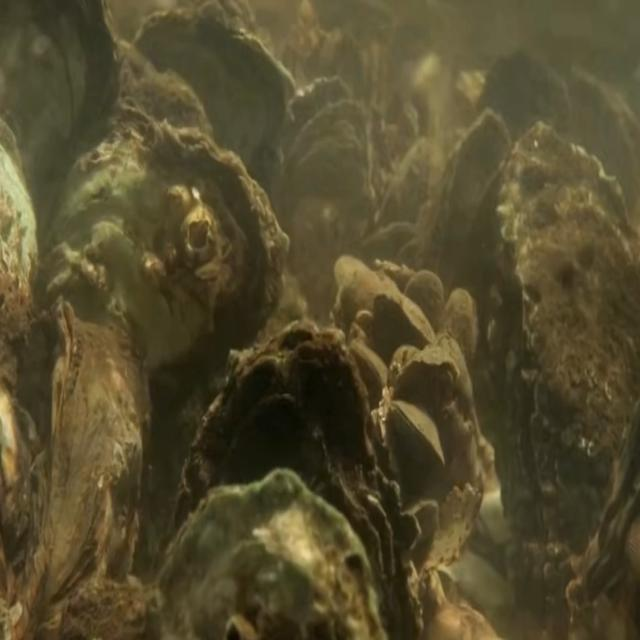Oyster-Closed: (56, 118, 290, 532), (181, 315, 422, 640), (485, 121, 640, 564), (152, 467, 390, 640), (391, 401, 445, 464), (396, 356, 460, 404)
Oyster-Indeterminate: (22, 293, 151, 640), (429, 106, 514, 338), (373, 288, 436, 342), (405, 270, 444, 341), (444, 288, 478, 363)
Oyster-Open: (272, 76, 369, 288)
